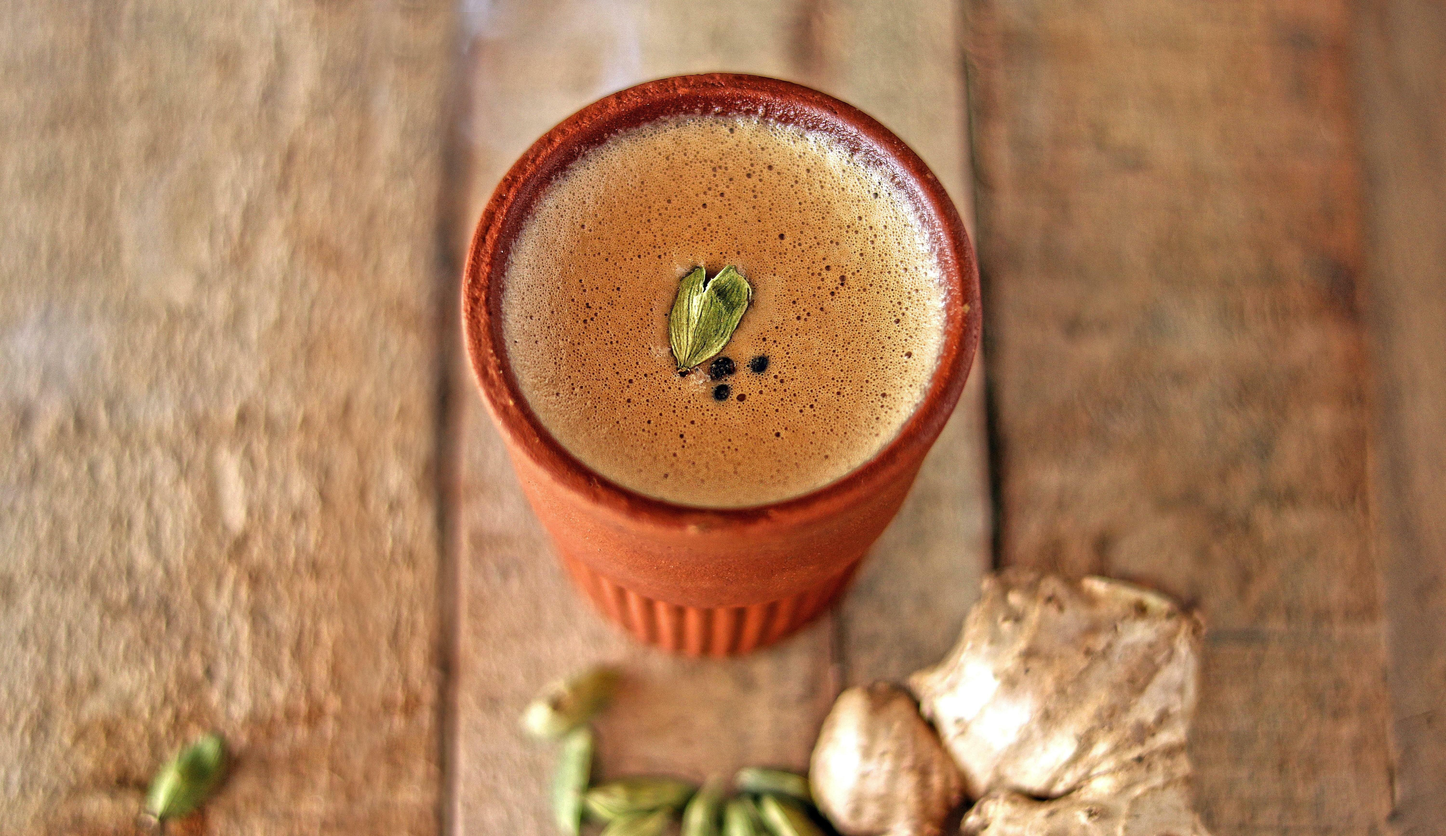Chai: (505, 111, 952, 516)
